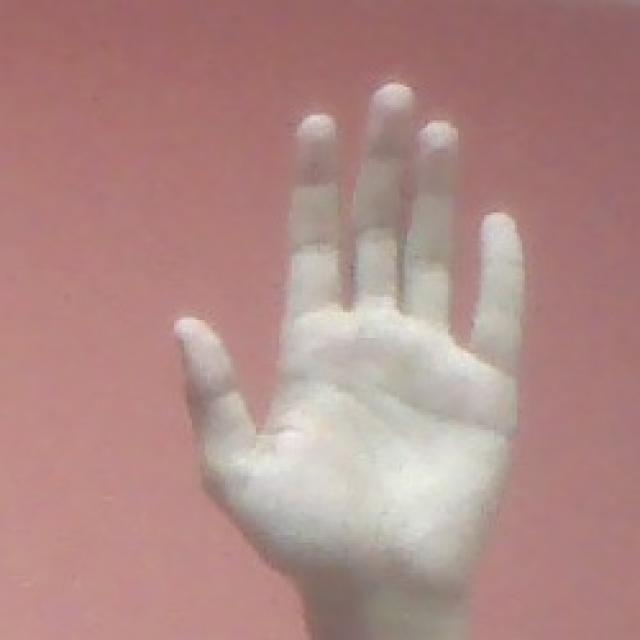Numeric-5: (180, 76, 525, 586)
